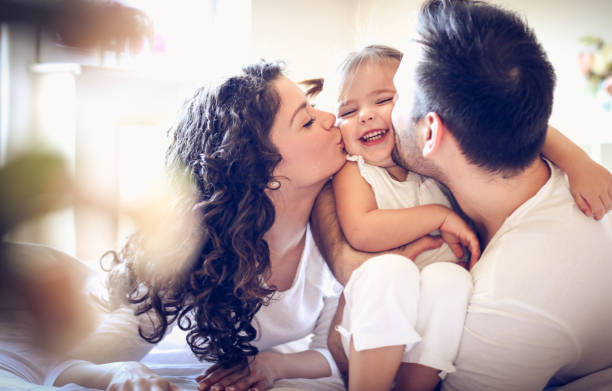without mask: (390, 6, 558, 182), (227, 42, 347, 202), (322, 43, 416, 172)
